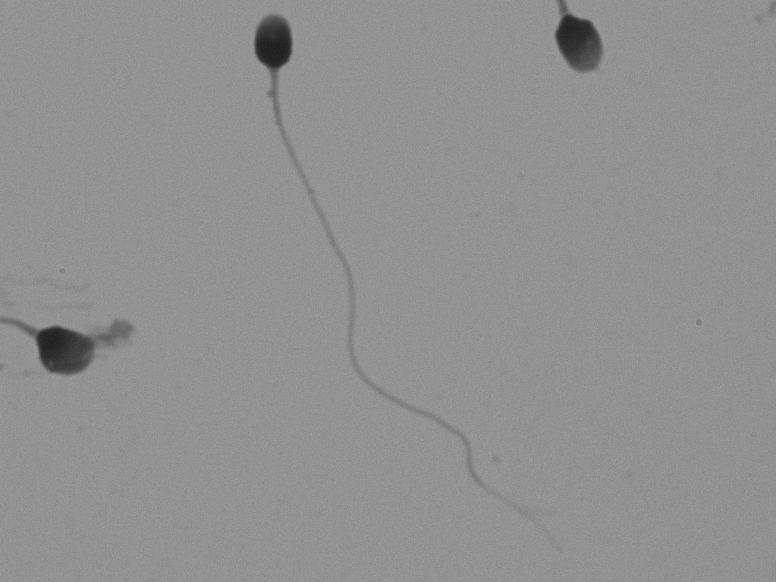Abnormal: (15, 250, 145, 449), (507, 6, 626, 120)
Normal: (215, 10, 539, 569)
